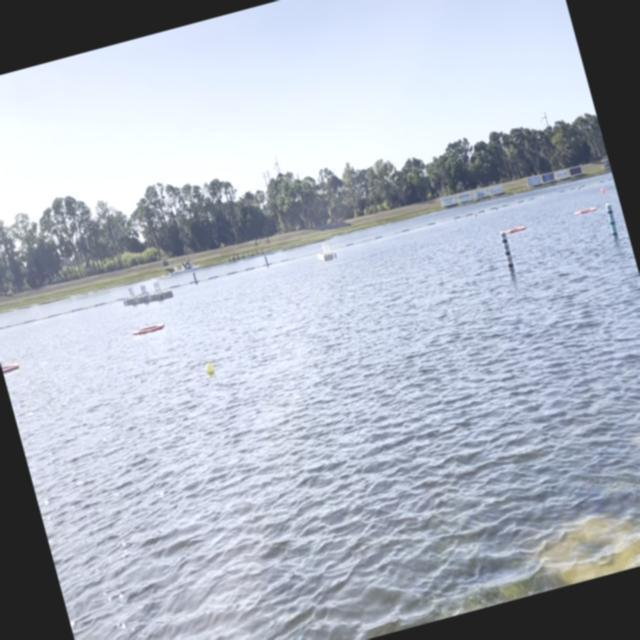buoy: (203, 361, 215, 374), (600, 188, 605, 194)
